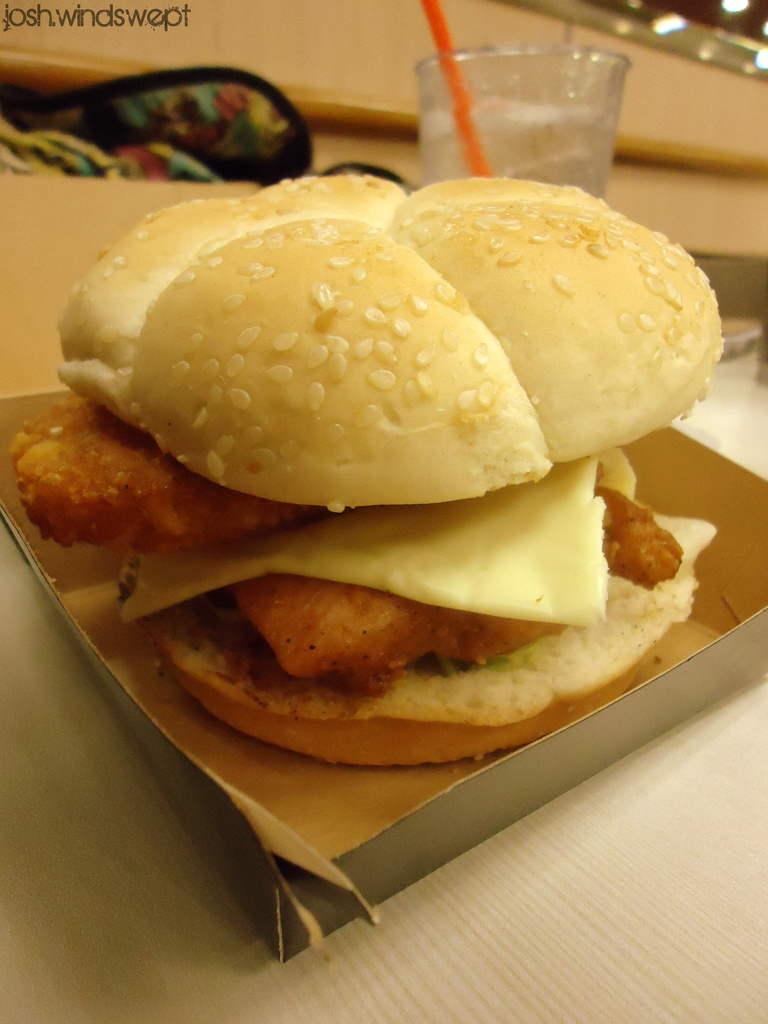Hamburger: (7, 175, 720, 769)
